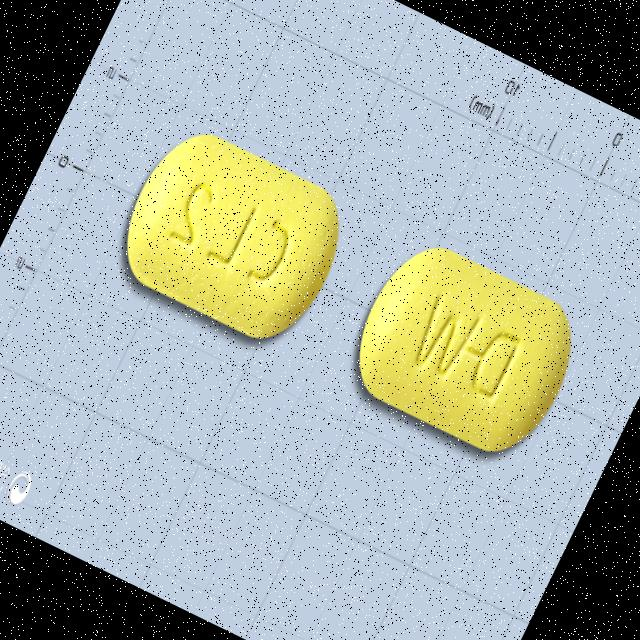Clearmycin - 250mg: (334, 228, 594, 470), (104, 115, 362, 355)
